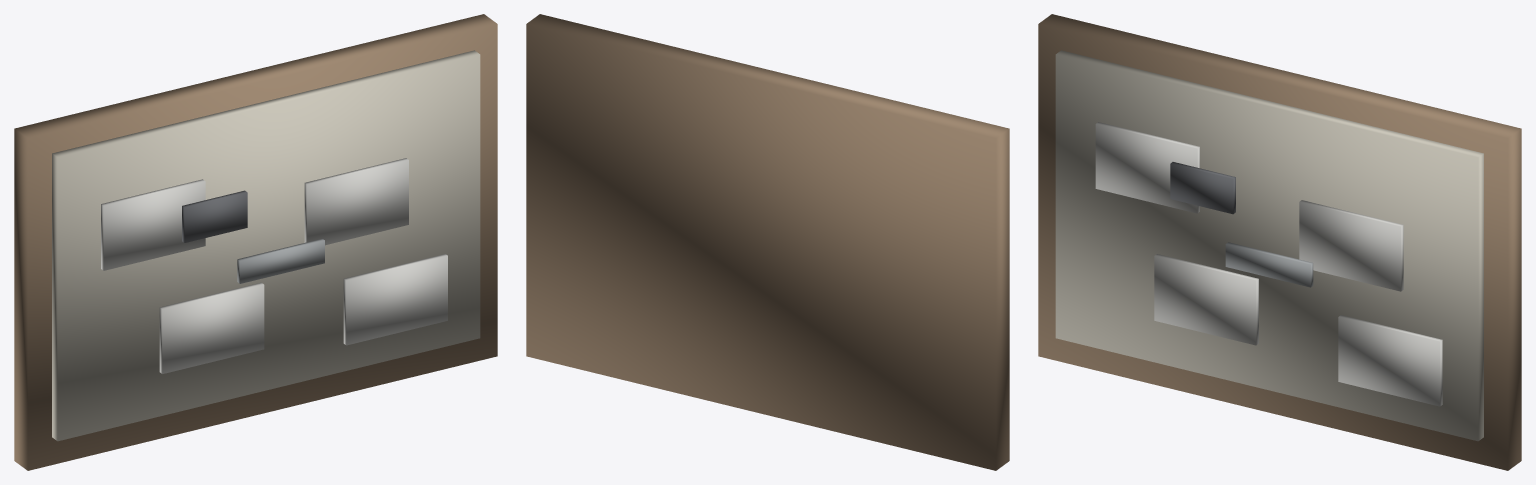
The model's file is chalkboard__weathered.glb.
3 renders of one model, left to right at view 1: azimuth 30°, elevation 25°; view 2: azimuth 150°, elevation 25°; view 3: azimuth 330°, elevation 25°, orthographic.
Visible parts, largest first — view 1: world; view 2: world; view 3: world.
Part boxes in pixels (box(x1,y1,x2,y2)): world: box(14, 14, 497, 470); world: box(526, 14, 1009, 470); world: box(1038, 14, 1521, 470).
Bounding box in the file's own units: 1.2 × 0.8118 × 0.115.
